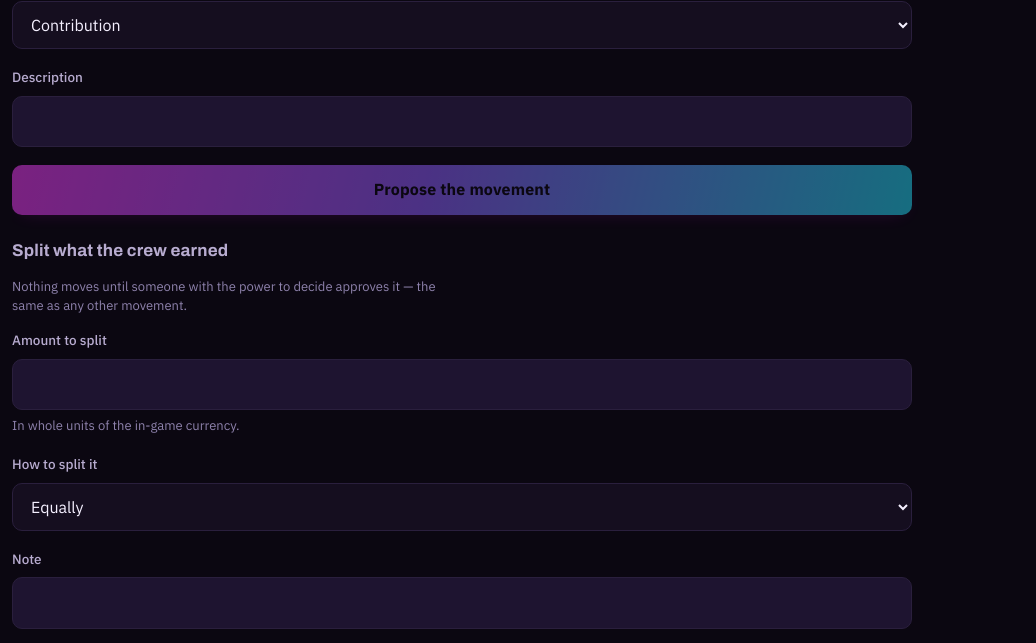
Test: dividir o que a crew ganhou › propõe a divisão com o evento escolhido
The width and height of the screenshot is (1036, 643).
(page scrolled)
Type "900" into the field labelled "Amount to split" at (462, 384), box [12, 358, 912, 410]
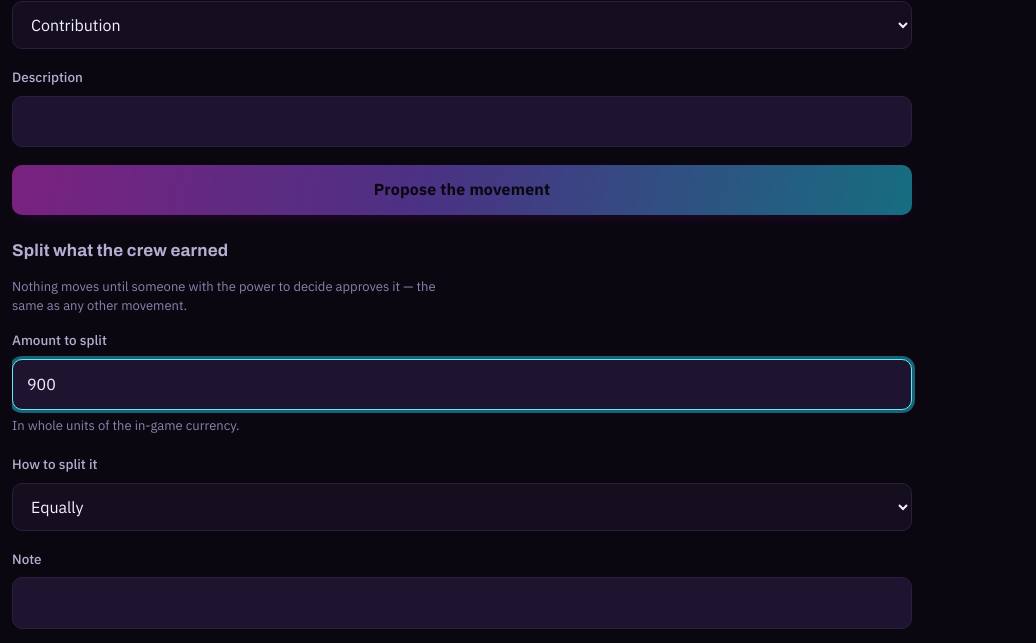
Select "By who turned up" in the dropdown labelled "How to split it" at (462, 506), box [12, 482, 912, 530]
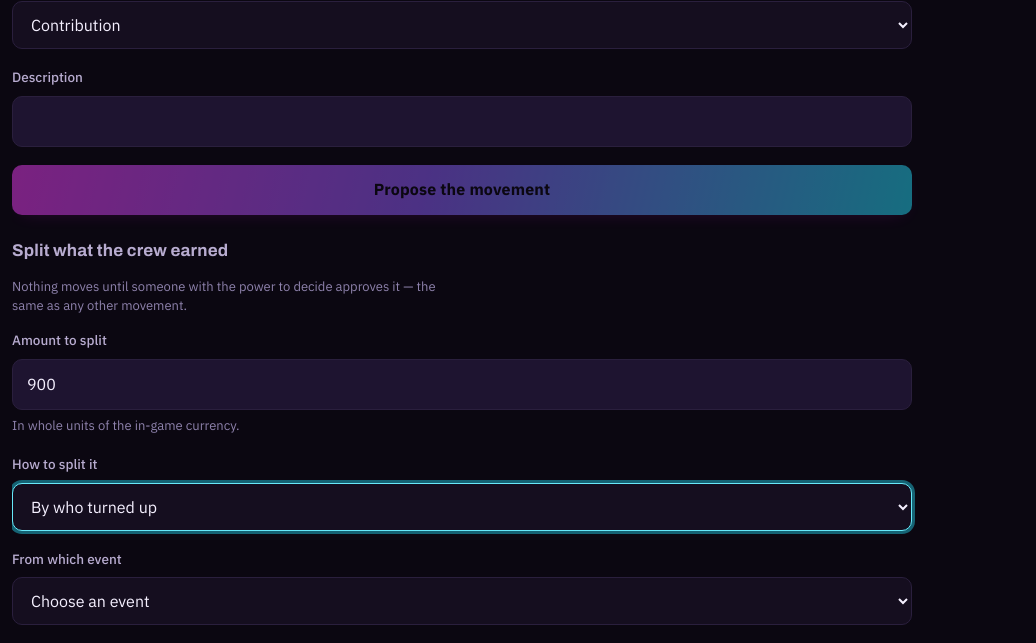
Select "Assalto ao banco — 4 turned up" in the dropdown labelled "From which event" at (462, 601), box [12, 577, 912, 625]
(page scrolled)
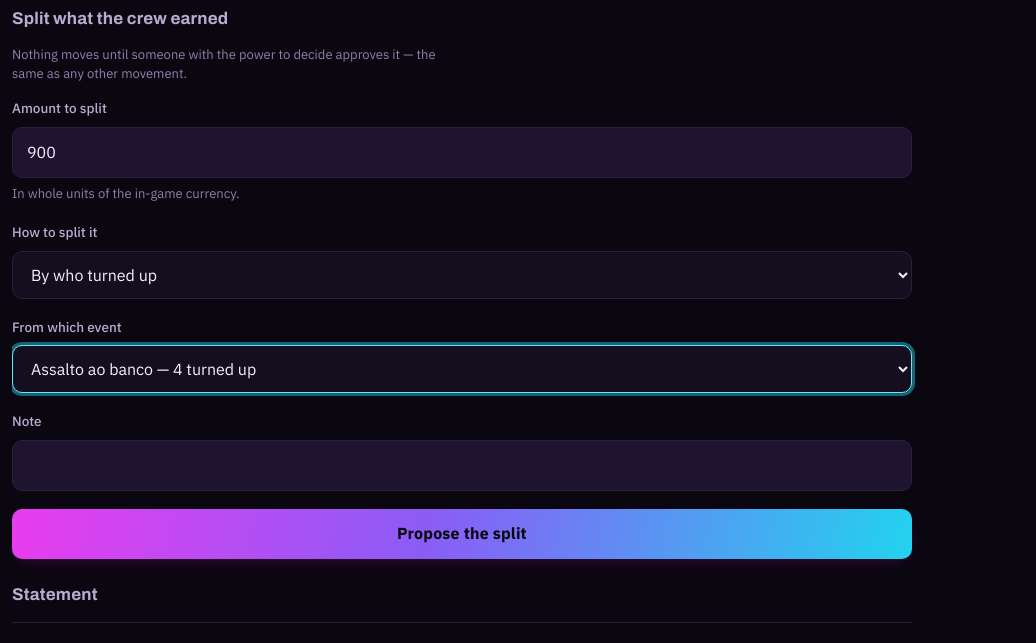
Click the button "Propose the split" at (462, 534), box [12, 509, 912, 559]
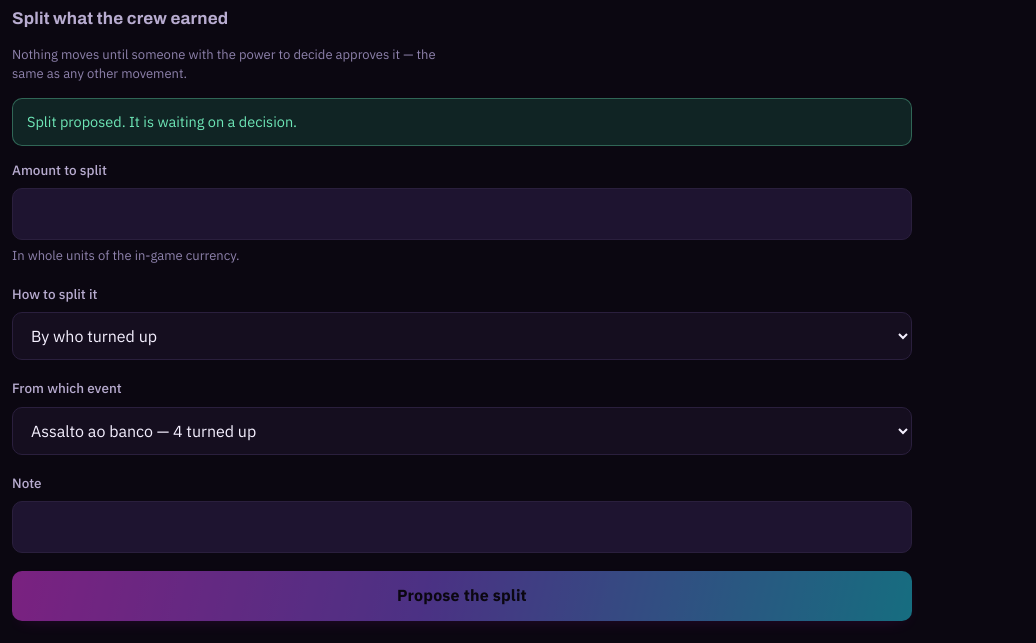
Now the text "Split proposed. It is waiting on a decision." is shown, box [12, 98, 912, 146]
